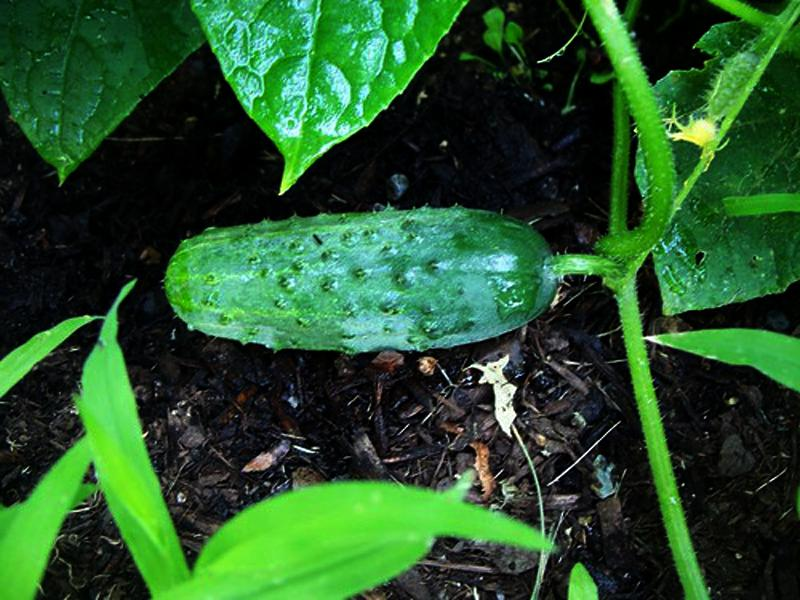Cucumber: (159, 206, 557, 354)
